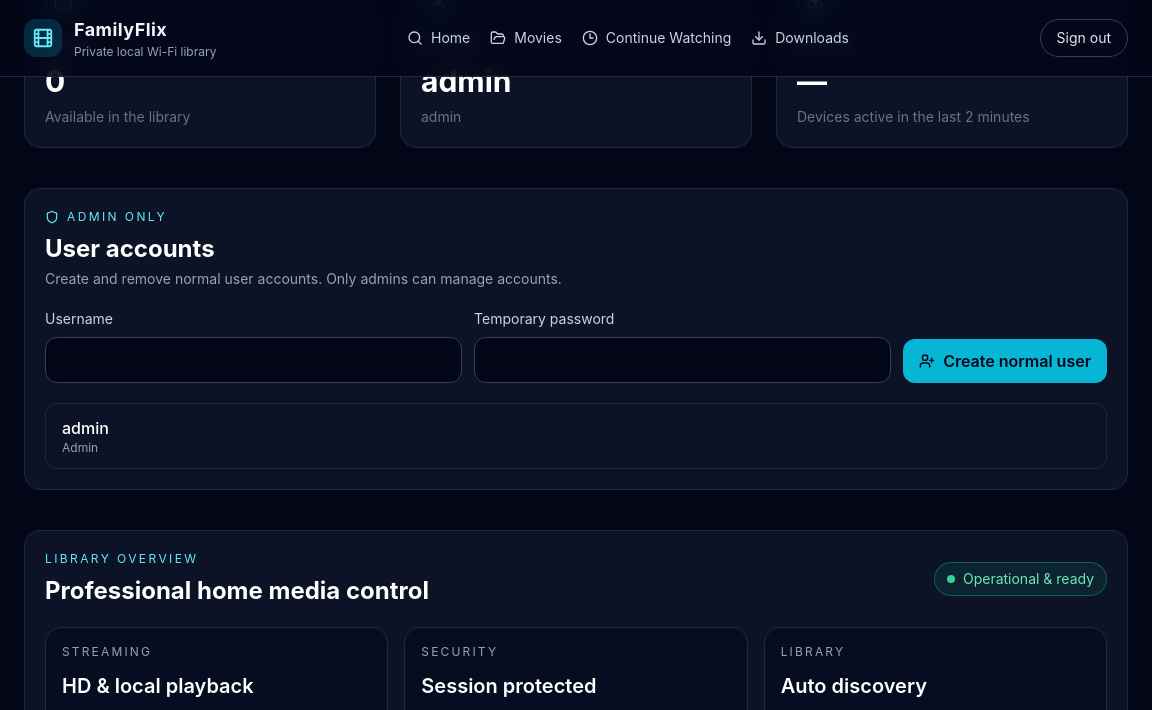
Scenario: FamilyFlix app › lets admins create normal user accounts
This screenshot has width=1152, height=710.
(page scrolled)
Expected: the heading "User accounts" is shown, [45,234,215,263]
In the field labelled "Username": (254, 360) [45,337,462,383], type "family-user"
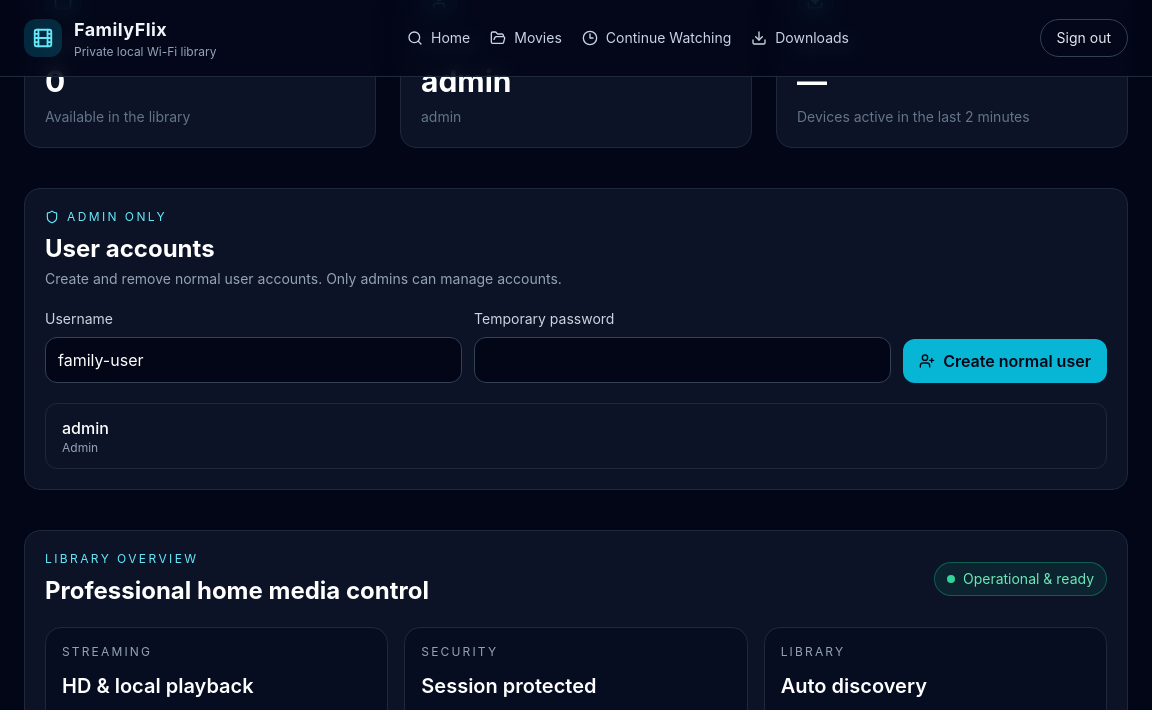
In the password field labelled "Temporary password": (683, 360) [474,337,891,383], type "family-pass-123"
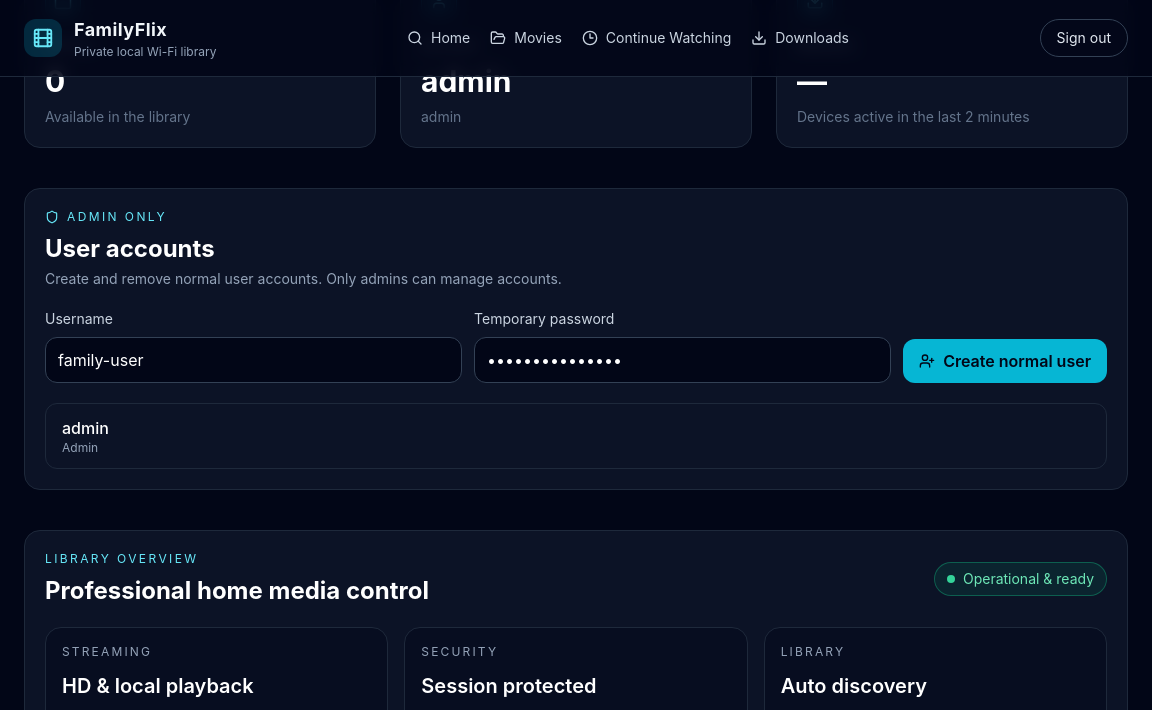
Click the button "Create normal user": click(1005, 361) [903,339,1107,383]
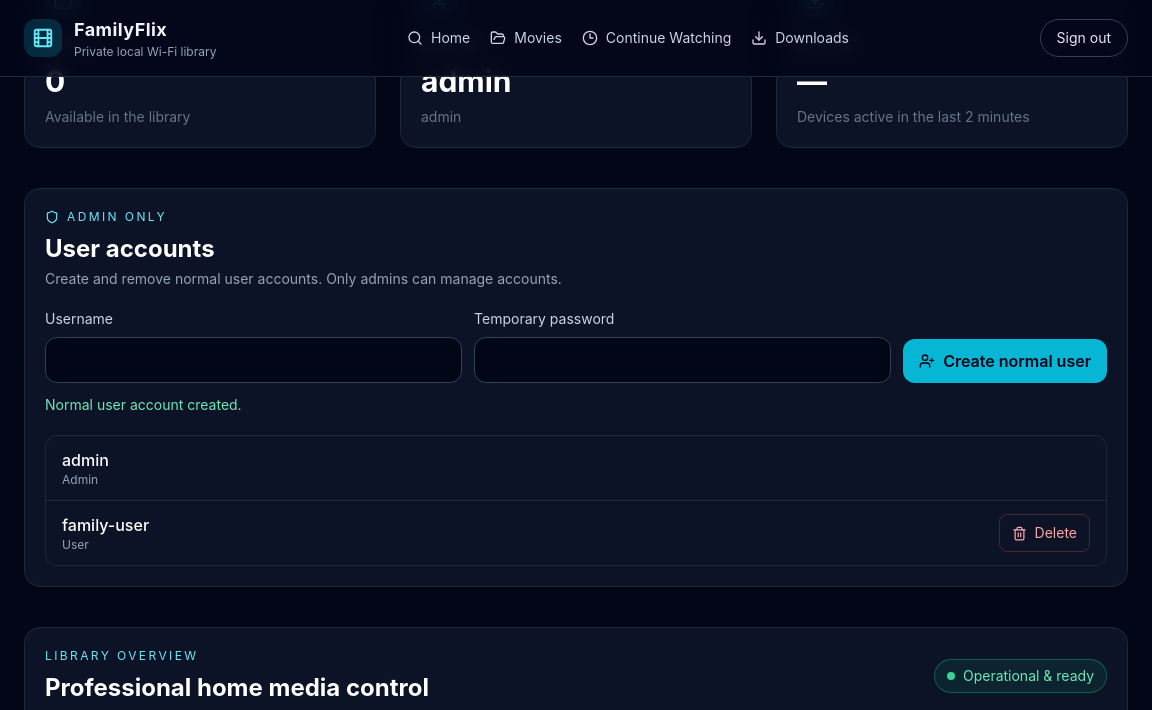
Result: the text "Normal user account created." is shown at [45,396,242,413]
Result: the text "family-user" is shown at [62,513,149,537]
Result: the text "user" is shown at [62,537,89,552]
